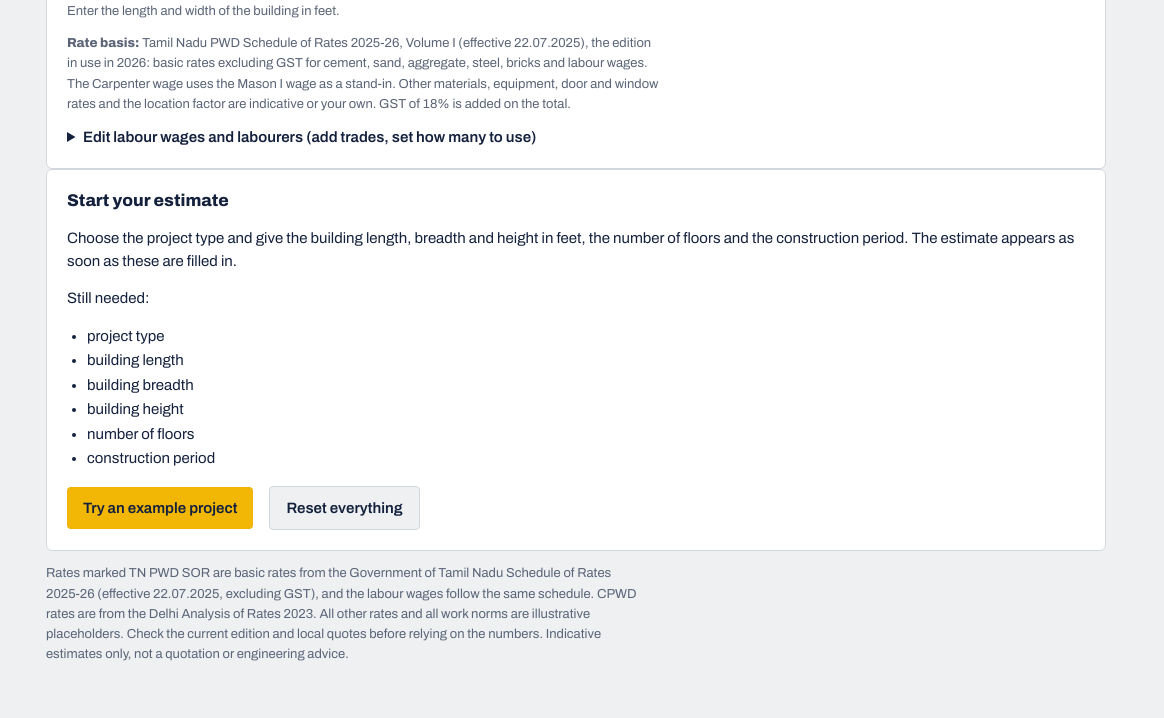
Test: App › quantity to use changes the material cost
(page scrolled)
Click the button "Try an example project": click(160, 508) [67,487,253,529]
(page scrolled)
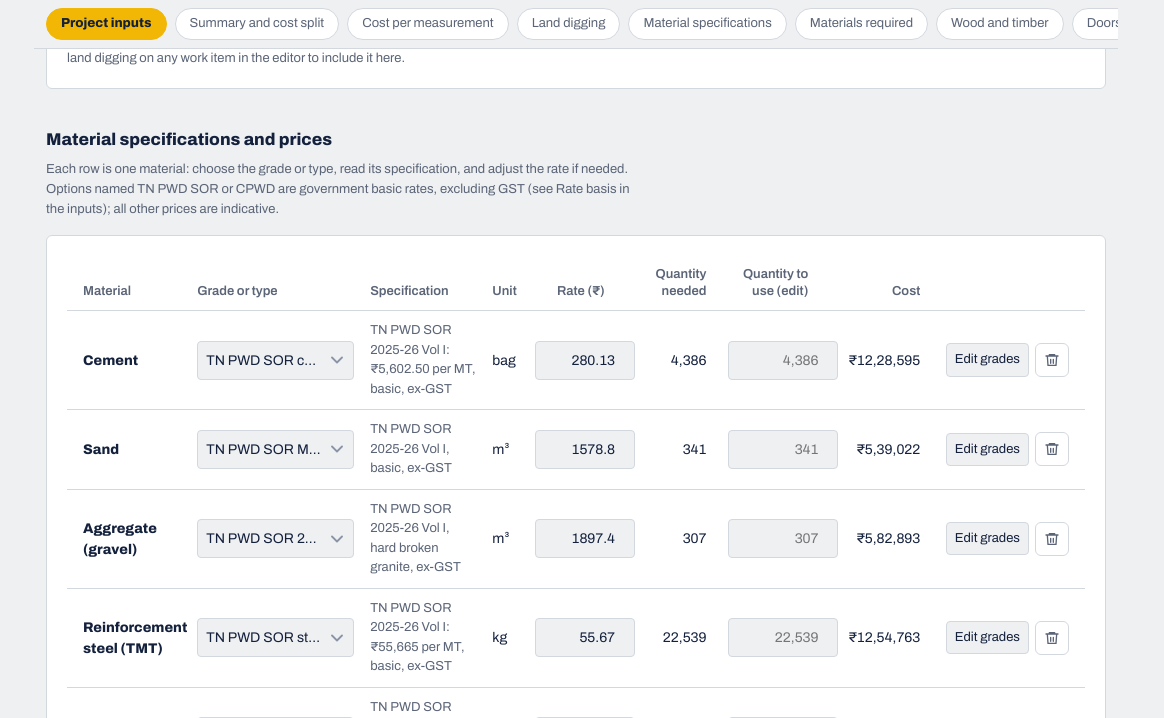
In the number field named "Quantity to use for Cement": (784, 360) [728,341,838,380], type "9000"
(page scrolled)
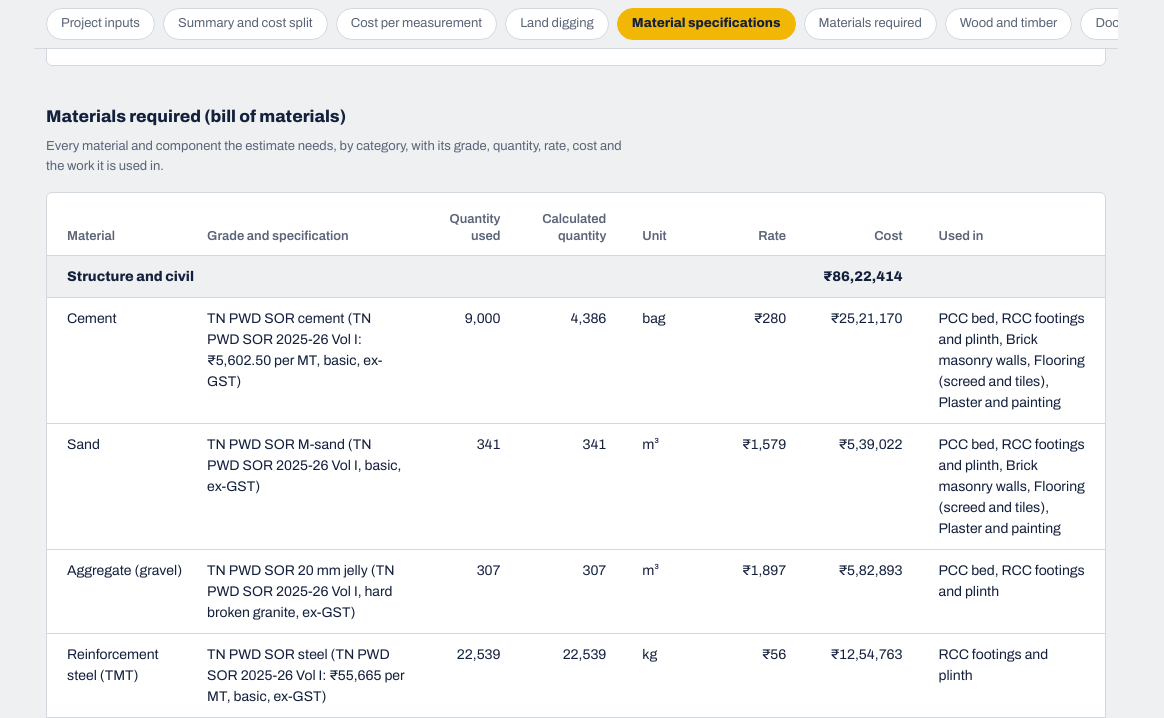
Check: the text "9,000" is shown, box [417,298,512,424]
